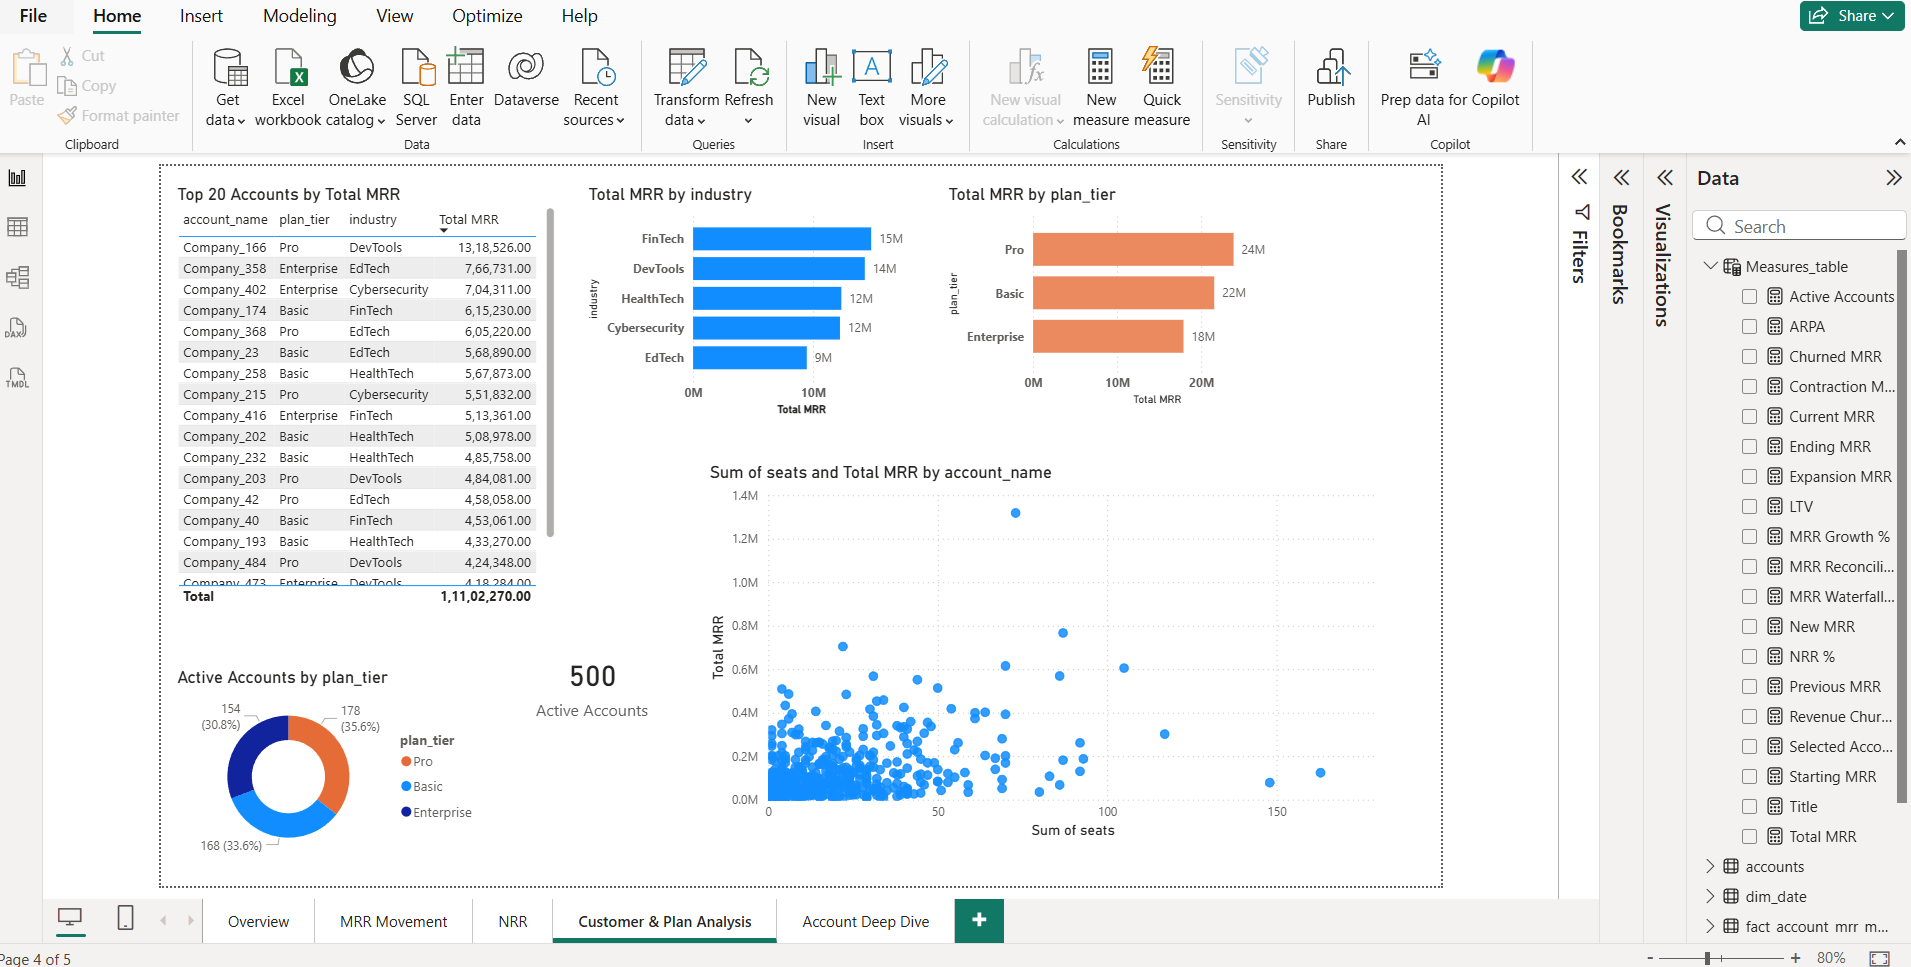

The page's visual inventory and layout, read from the dashboard file:
{"tool":"powerbi","page":{"name":"Customer & Plan Analysis","canvas":[1280,720],"ordinal":3},"visuals":[{"type":"barChart","fields":{"Category":["accounts.plan_tier"],"Y":["Measures_table.Total Mrr"]},"box":[782.5,17.5,356.2,227.5],"z":0},{"type":"barChart","fields":{"Y":["Measures_table.Total Mrr"],"Category":["accounts.industry"]},"box":[422.5,17.5,345,237.5],"z":1},{"type":"card","fields":{"Values":["Measures_table.Active Accounts"]},"box":[351.2,481.2,160,76.2],"z":2},{"type":"donutChart","fields":{"Category":["accounts.plan_tier"],"Y":["Measures_table.Active Accounts"]},"box":[11.2,501.2,313.8,200],"z":3},{"type":"tableEx","title":"Top 20 Accounts by Total MRR","fields":{"Values":["accounts.account_name","accounts.plan_tier","accounts.industry","Measures_table.Total Mrr"]},"box":[11.2,17.5,387.5,427.5],"z":4},{"type":"scatterChart","fields":{"X":["Sum(accounts.seats)"],"Y":["Measures_table.Total Mrr"],"Category":["accounts.account_name"]},"box":[544.3,295.7,688.6,381.4],"z":5}]}

Visuals, with their boxes on the page's 1280x720 design canvas (x1, y1, x2, y2). These are canvas units, not pixel positions in the 1911x967 screenshot, which may show the page scaled, cropped or inside an application window:
barChart - accounts.plan_tier x Measures_table.Total Mrr: [782, 18, 1139, 245]
barChart - Measures_table.Total Mrr x accounts.industry: [422, 18, 768, 255]
card - Measures_table.Active Accounts: [351, 481, 511, 557]
donutChart - accounts.plan_tier x Measures_table.Active Accounts: [11, 501, 325, 701]
"Top 20 Accounts by Total MRR" tableEx: [11, 18, 399, 445]
scatterChart - Sum(accounts.seats) x Measures_table.Total Mrr: [544, 296, 1233, 677]
